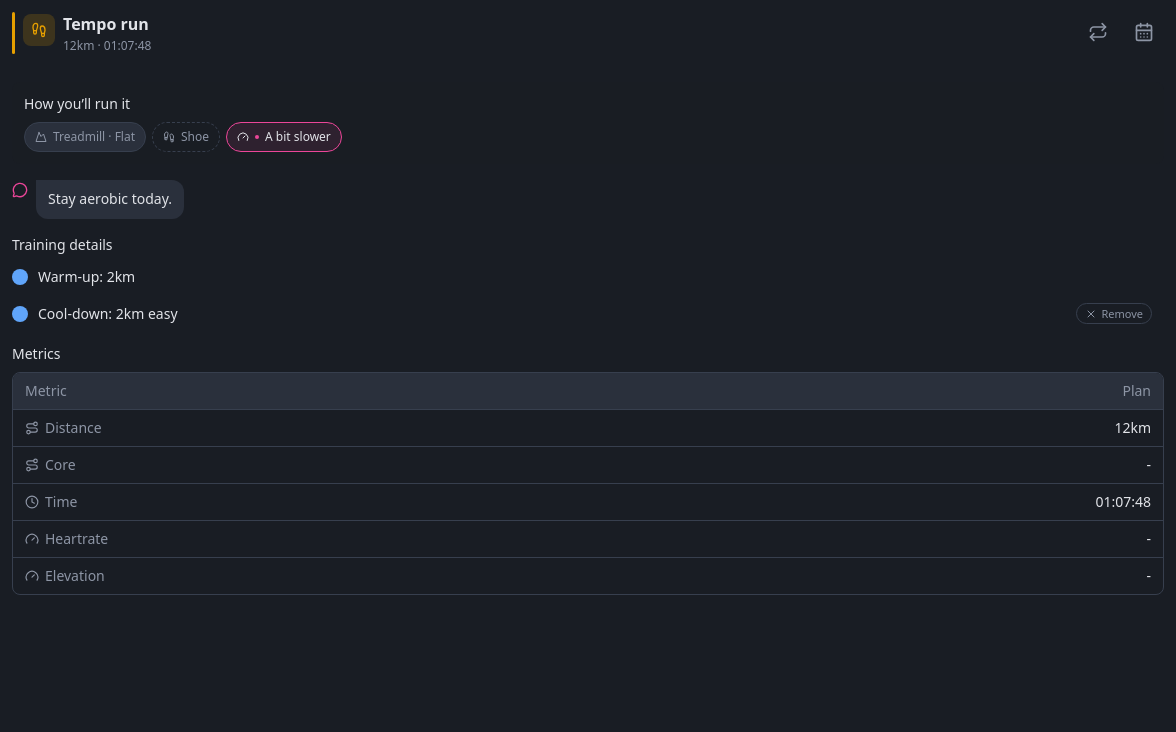
Test: setup errors outside the sheet › says so when the server answers but changes nothing
expect the text "Cool-down: 2km easy" is shown: met, box left=38, top=304, right=178, bottom=323
Click the text "Remove".
click(1114, 314)  # box left=1076, top=303, right=1152, bottom=324
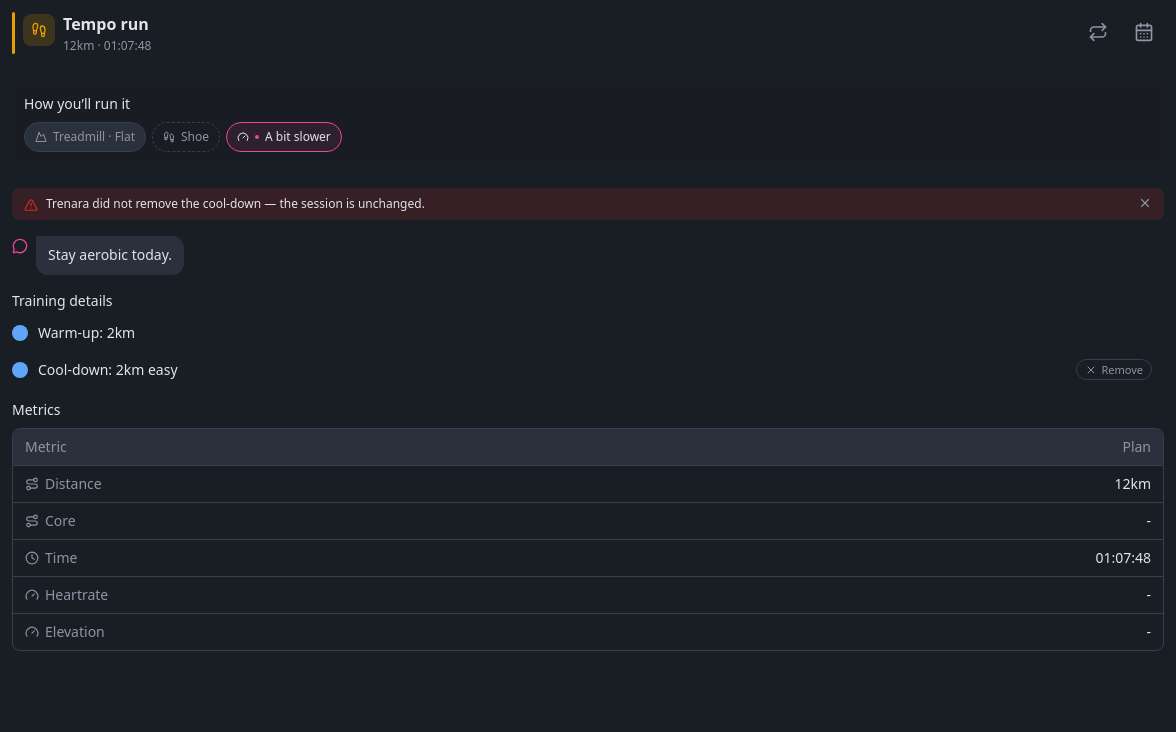
expect the text "did not remove the cool-down" is shown: met, box left=46, top=195, right=425, bottom=212
